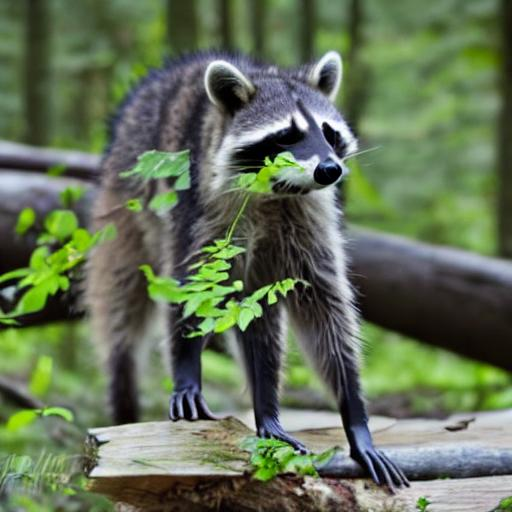raccoon: (83, 37, 383, 394)
